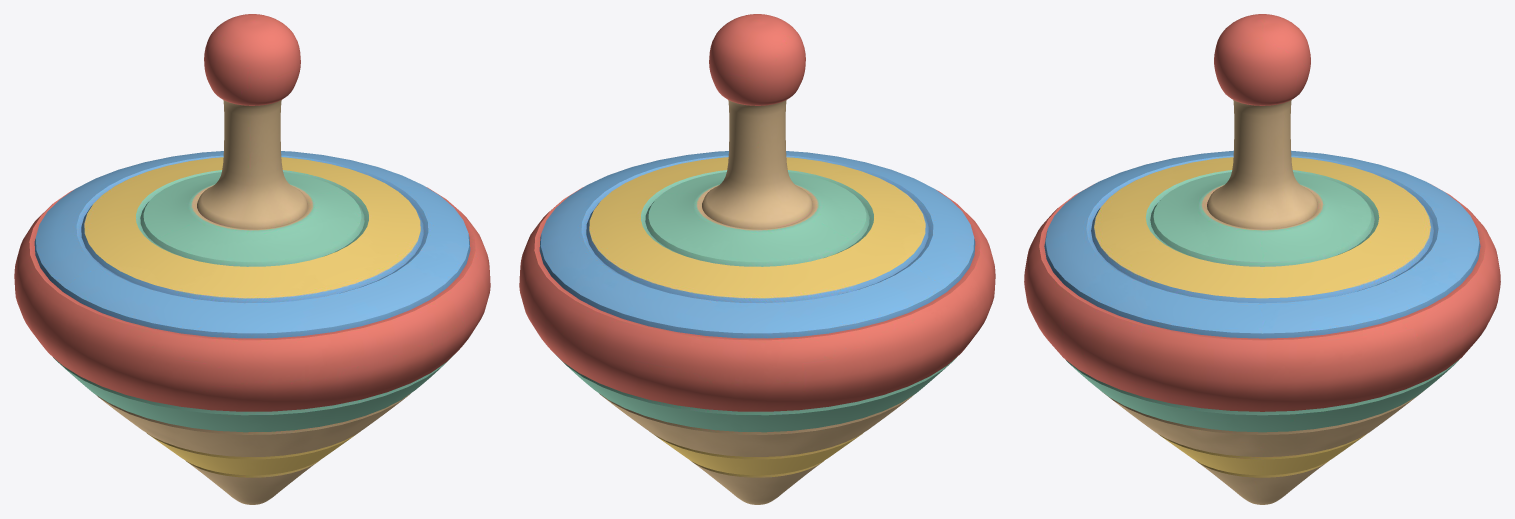
The model's file is spinning-top.glb.
The picture shows the model from 3 angles, left to right: view 1: azimuth 30°, elevation 25°; view 2: azimuth 150°, elevation 25°; view 3: azimuth 270°, elevation 25°; orthographic projection.
Parts seen in each view (by area): view 1: spinning-top_body; view 2: spinning-top_body; view 3: spinning-top_body.
Boxes of the visible parts, box(x1,y1,x2,y2) form: spinning-top_body: box(14, 14, 490, 504); spinning-top_body: box(519, 14, 995, 504); spinning-top_body: box(1024, 14, 1500, 504).
Size of the model in its own units: 0.0845 by 0.094 by 0.0845.
1 material, 1 textured.
